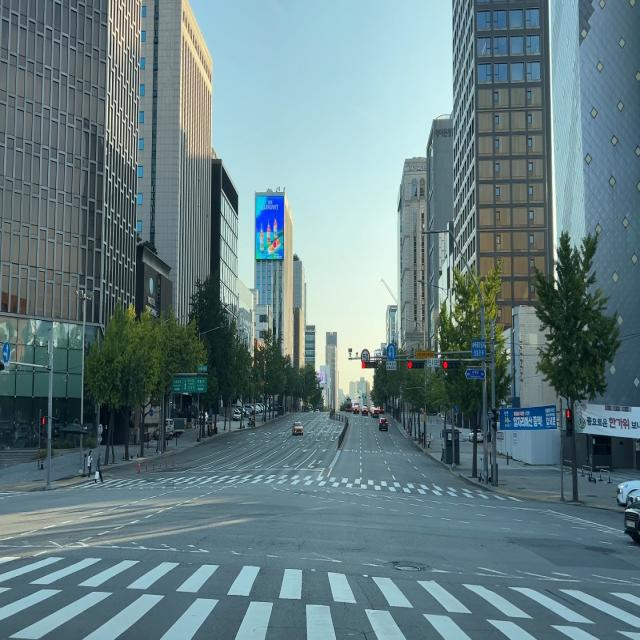Red Light: (443, 361, 448, 370), (361, 361, 366, 369), (408, 360, 412, 369)
